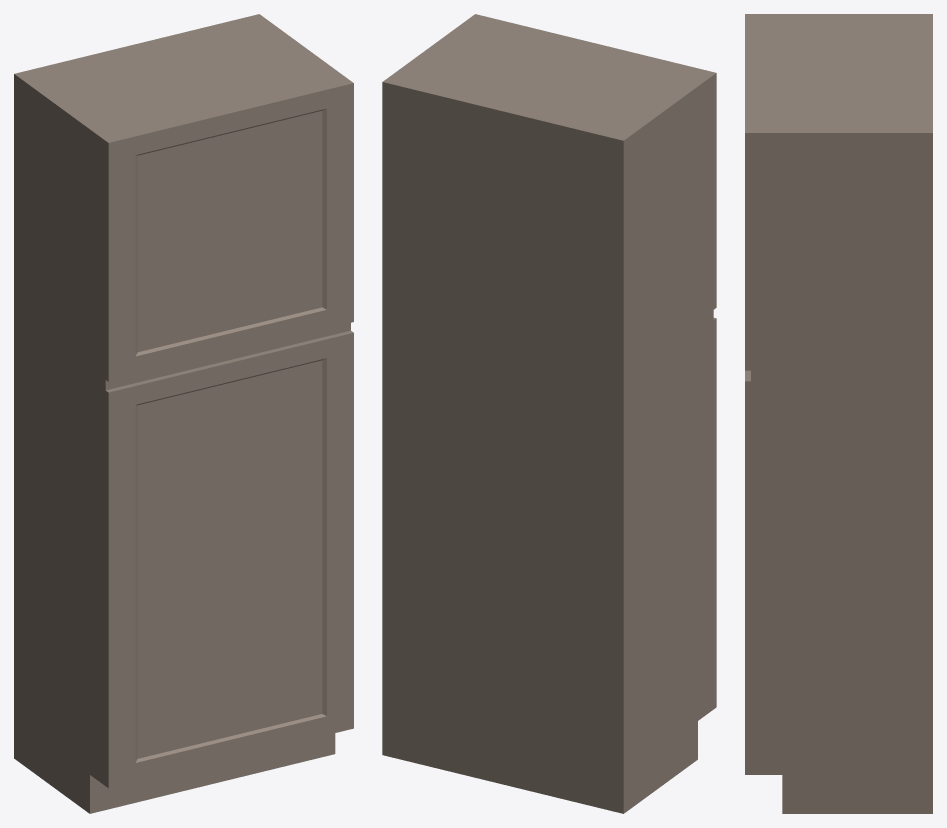
Rendered from Universal-Design-Utility-Cabinet-24-Deep_std_001_W36in_2D.glb.
The picture shows the model from 3 angles, left to right: view 1: azimuth 30°, elevation 25°; view 2: azimuth 150°, elevation 25°; view 3: azimuth 270°, elevation 25°; orthographic projection.
Parts seen in each view (by area): view 1: Universal-Design-Utility-Cabinet-24-Deep.std.001_W36in_2D; view 2: Universal-Design-Utility-Cabinet-24-Deep.std.001_W36in_2D; view 3: Universal-Design-Utility-Cabinet-24-Deep.std.001_W36in_2D.
Boxes of the visible parts, left/top/right/bottom form: Universal-Design-Utility-Cabinet-24-Deep.std.001_W36in_2D: left=14, top=14, right=353, bottom=813; Universal-Design-Utility-Cabinet-24-Deep.std.001_W36in_2D: left=382, top=14, right=716, bottom=813; Universal-Design-Utility-Cabinet-24-Deep.std.001_W36in_2D: left=745, top=14, right=932, bottom=813.
Bounding box in the file's own units: 0.9144 × 2.44 × 0.6096.
